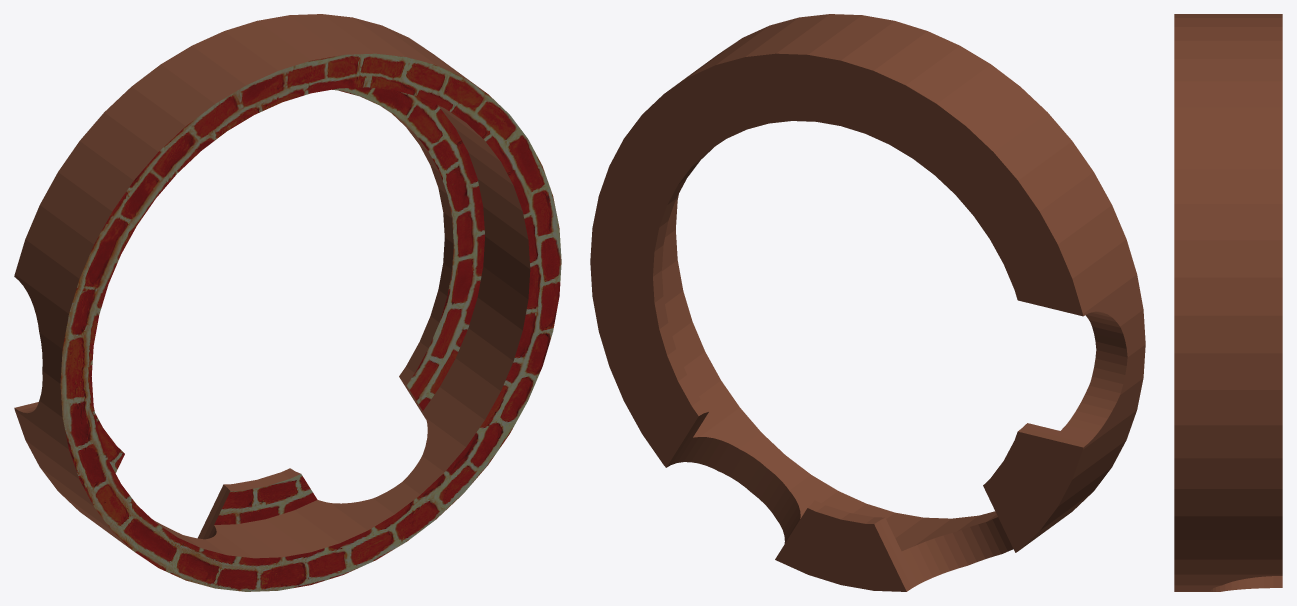
Rendered from pool_061.obj.
3 views of the same model, side by side, from view 1: azimuth 30°, elevation 25°; view 2: azimuth 150°, elevation 25°; view 3: azimuth 270°, elevation 25° (orthographic).
Bounding box in the file's own units: 16 × 16 × 3.
